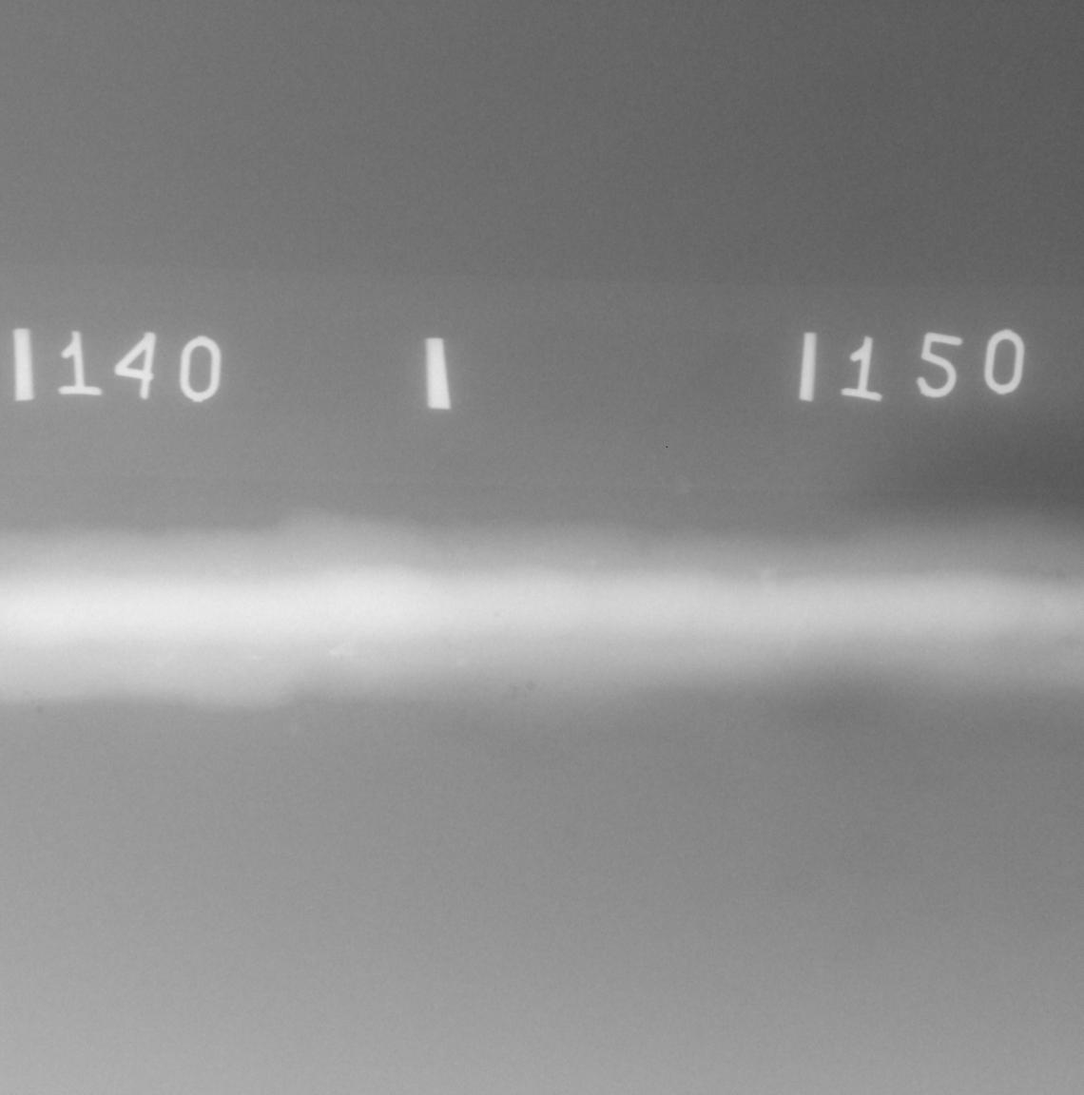Pore/Porosity: (511, 686, 518, 699), (1056, 569, 1066, 577), (527, 680, 535, 690), (37, 706, 45, 712), (30, 701, 35, 706), (524, 704, 528, 708), (524, 693, 527, 697), (494, 614, 498, 617)
